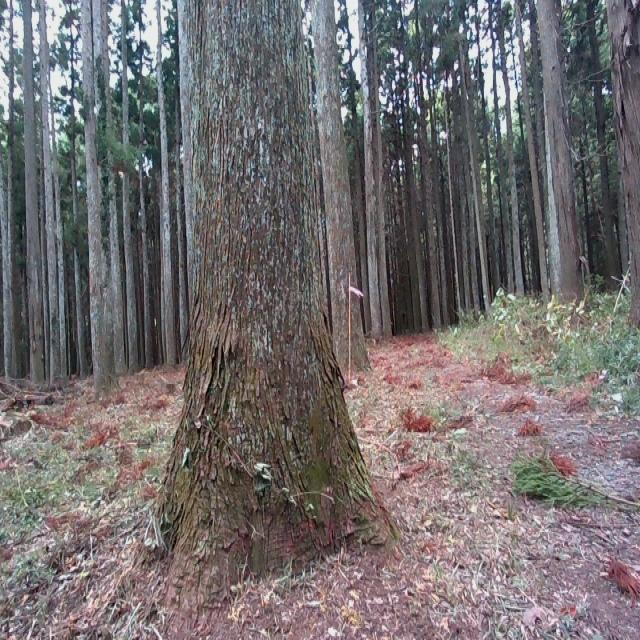bush: (499, 280, 640, 437)
tree: (132, 0, 408, 558), (303, 0, 375, 381), (79, 7, 123, 406), (534, 0, 588, 322), (607, 0, 640, 344)
